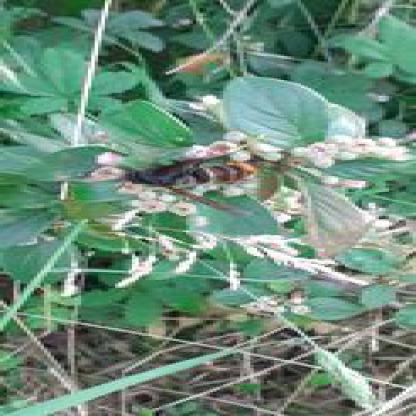Asian Hornet: (138, 147, 262, 201)
